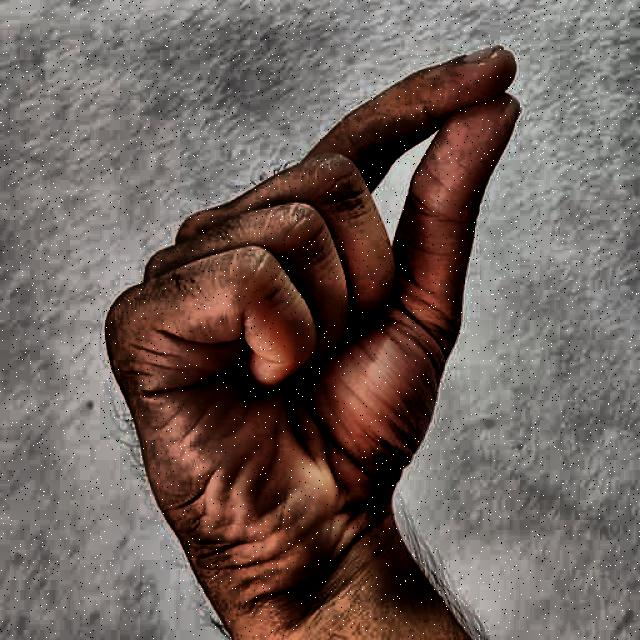Anusshar: (62, 17, 532, 601)
